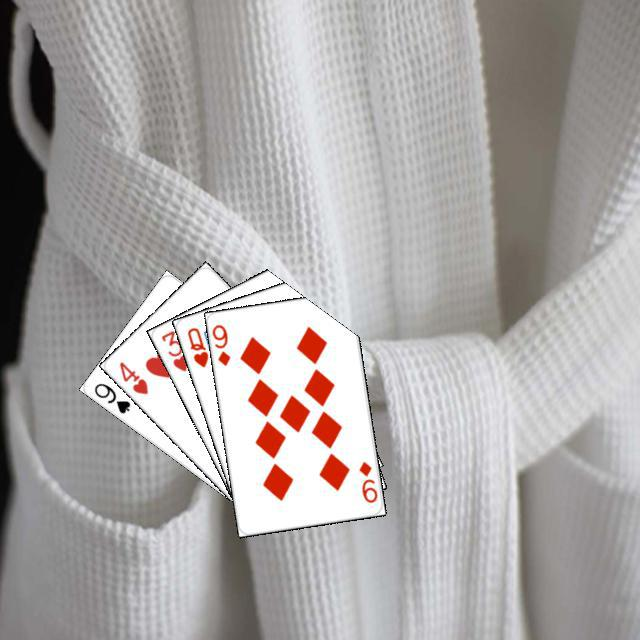3h: (156, 325, 190, 373)
4h: (114, 357, 150, 396)
9d: (354, 456, 379, 505), (208, 320, 232, 368)
9s: (89, 378, 132, 415)
Qh: (182, 322, 210, 369)
